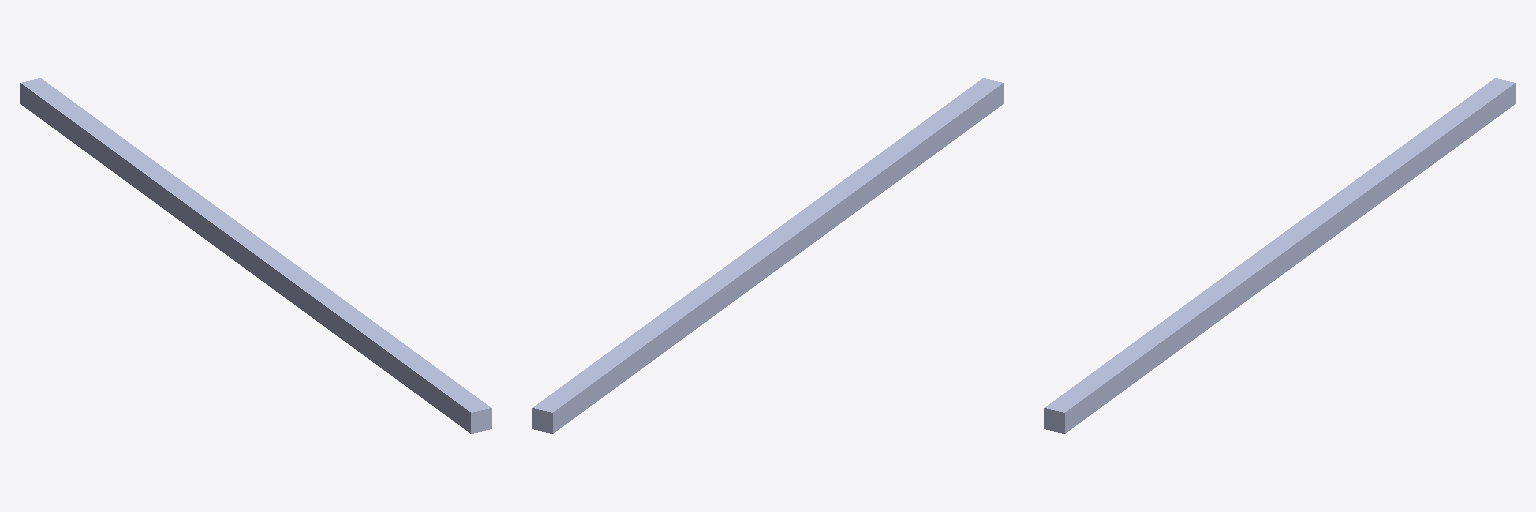
robot.urdf — gate_green:
<robot
  name="gate_green">
  <link
    name="gate_green">
    <inertial>
      <origin
        xyz="7.8378E-19 -0.77 4.78348746221615E-17"
        rpy="0 0 0" />
      <mass
        value="2.464" />
      <inertia
        ixx="0.487297066666667"
        ixy="8.13001335453769E-53"
        ixz="-1.32777579165115E-36"
        iyy="0.000657066666666667"
        iyz="3.0953604118524E-17"
        izz="0.487297066666667" />
    </inertial>
    <visual>
      <origin
        xyz="0 0 0"
        rpy="1.5707963267949 0 0" />
      <geometry>
        <mesh
          filename="package://gate_green/meshes/gate_green.STL" />
      </geometry>
      <material
        name="">
        <color
          rgba="0.79216 0.81961 0.93333 1" />
      </material>
    </visual>
    <collision>
      <origin
        xyz="0 0 0"
        rpy="1.5707963267949 0 0" />
      <geometry>
        <mesh
          filename="package://gate_green/meshes/gate_green.STL" />
      </geometry>
    </collision>
  </link>
  <gazebo reference="gate_green">
    <material>Gazebo/Green</material>
  </gazebo>
  <gazebo>
  <static>true</static>
</gazebo>
</robot>

--- Render facts (derived) ---
3 views of the same robot in one strip: view 1: azimuth 30°, elevation 25°; view 2: azimuth 150°, elevation 25°; view 3: azimuth 330°, elevation 25° (orthographic).
Model gate_green with 1 links and 0 joints (none), rooted at gate_green, posed all joints at 0.
Visible links, largest first — view 1: gate_green; view 2: gate_green; view 3: gate_green.
Link boxes in pixels (x1,y1,x2,y2): gate_green: [20, 78, 491, 433]; gate_green: [532, 78, 1003, 433]; gate_green: [1044, 78, 1515, 433].
Bounding box of the posed robot: 0.04 × 1.54 × 0.04 m (x, y, z).
Meshes: 1 distinct files referenced, 1 mesh visuals loaded (1 binary STL).